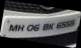character: (8, 24, 17, 31), (26, 24, 33, 31), (17, 24, 24, 30), (33, 24, 39, 31), (42, 23, 48, 30), (48, 23, 53, 30), (65, 20, 70, 27), (69, 19, 74, 26), (56, 22, 61, 28), (61, 21, 65, 28)
